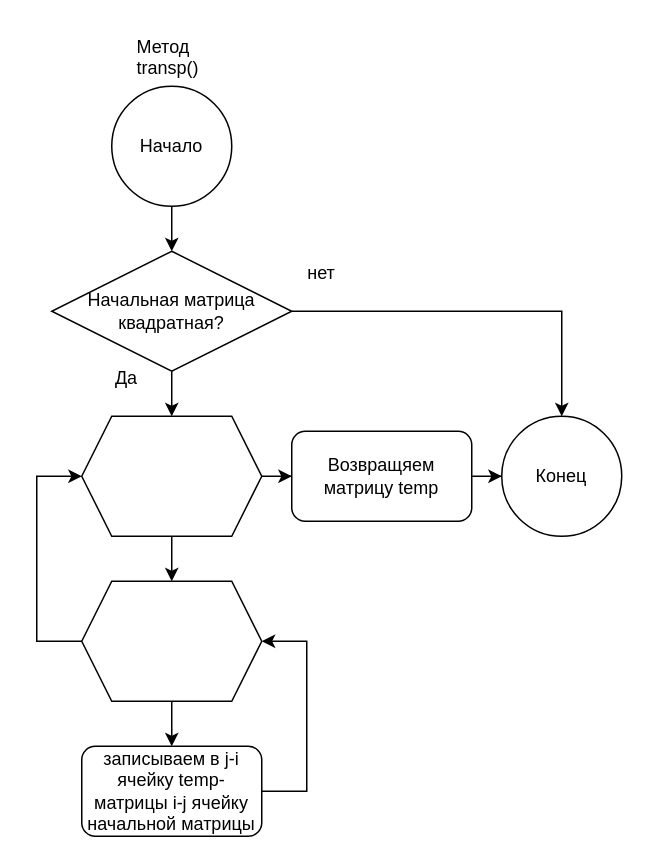
Some shapes in this 648 by 863 pixel diagram are drawn without their labels. Each missing label, with the box of its shape:
i = 0; i < rows; i++: (80, 415, 262, 536)
j = 0; j < rows; j++: (80, 580, 262, 701)
